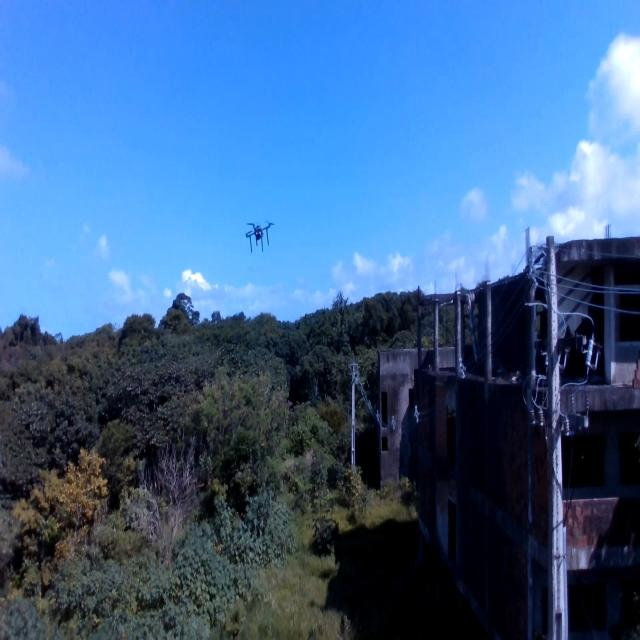-uav-: (238, 209, 276, 256)
